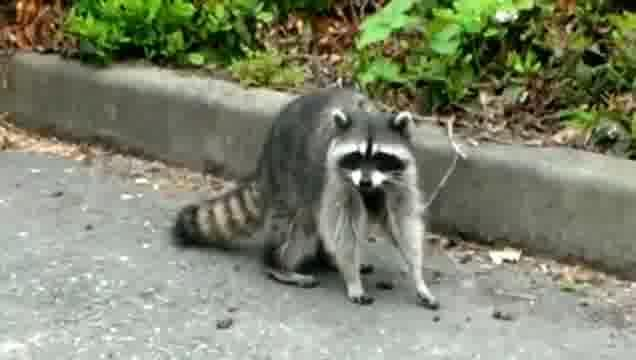raccoon: (173, 88, 443, 313)
